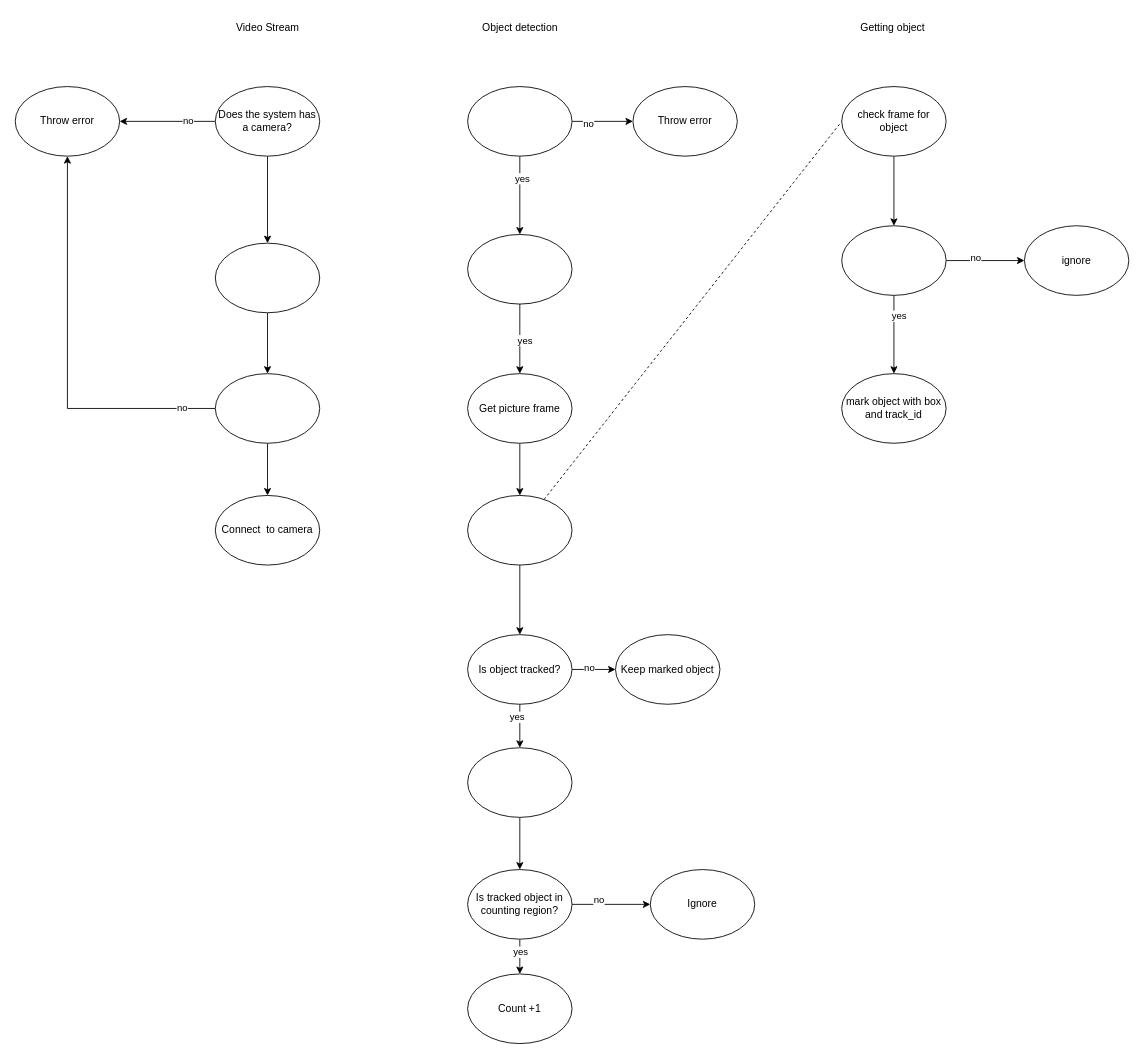
The diagram is 1144 pixels wide and 1059 high, and some of its shapes have lost their labels. Here are the shapes that lost their labels. From the top down, the centre of each, then its label:
pixel 519 121: Is a YOLO model available?
pixel 267 277: Try to connect
pixel 519 269: Initialize it
pixel 893 260: is confidence =< 60% for person?
pixel 267 408: Is a connection possible?
pixel 519 530: Check with YOLO for object
pixel 519 782: Mark object
